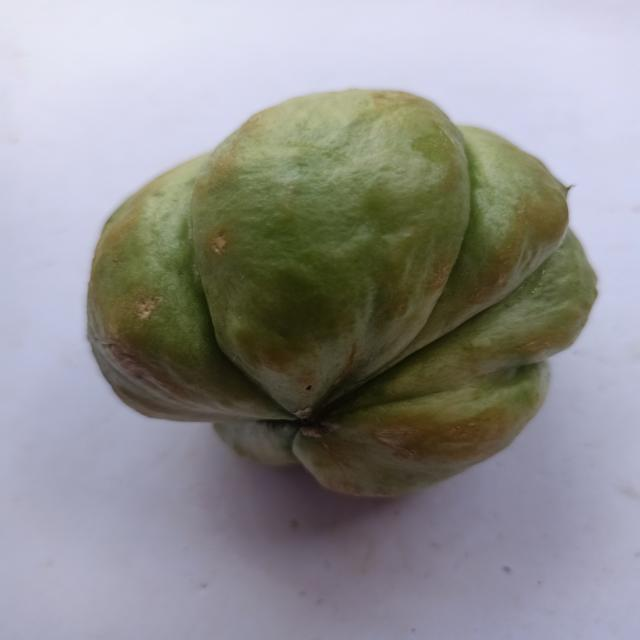Chayote: (69, 69, 613, 528)
